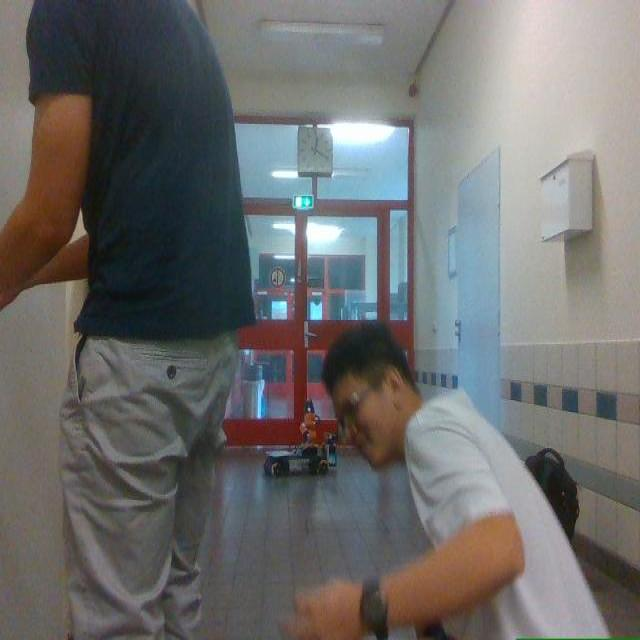humans: (0, 0, 254, 639), (285, 324, 606, 639)
objects: (264, 401, 336, 476), (525, 448, 578, 539), (419, 624, 454, 639)
